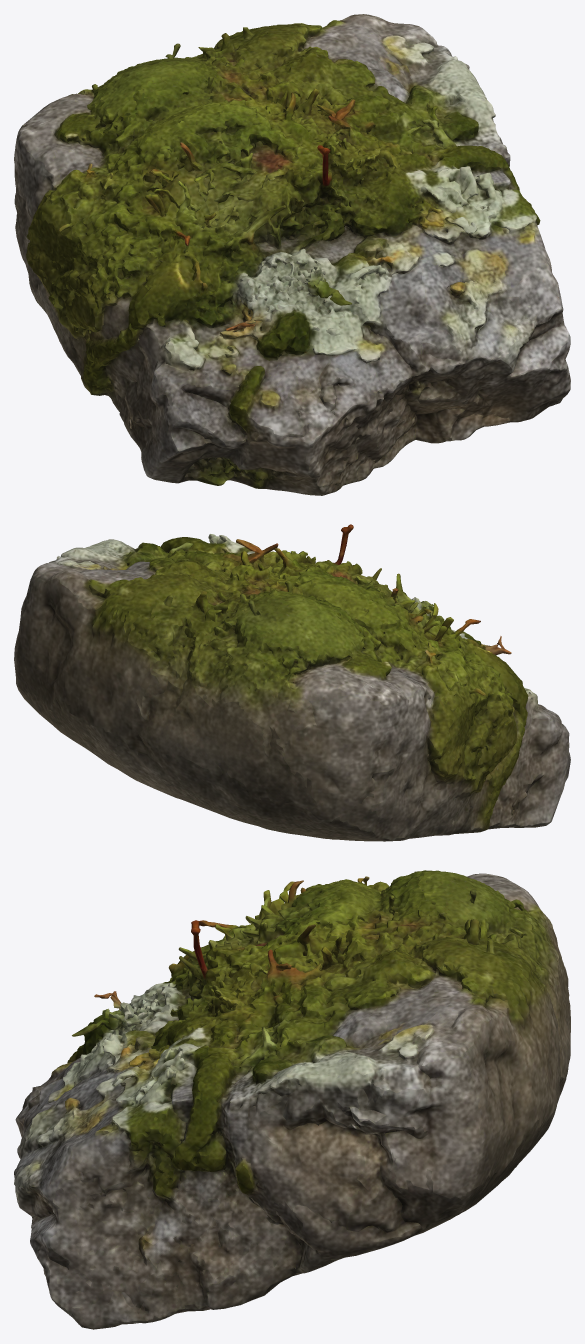
Rendered from mossy-granite-slab-v21-lod.glb.
The picture shows the model from 3 angles, top to bottom: view 1: azimuth 30°, elevation 25°; view 2: azimuth 150°, elevation 25°; view 3: azimuth 270°, elevation 25°; orthographic projection. The views are drawn at different scales.
Parts seen in each view (by area): view 1: geometry_0; view 2: geometry_0; view 3: geometry_0.
Boxes of the visible parts, x1=… form: geometry_0: x1=14, y1=14, x2=570, y2=495; geometry_0: x1=14, y1=524, x2=570, y2=841; geometry_0: x1=14, y1=870, x2=570, y2=1329.
Bounding box in the file's own units: 0.2797 × 0.1941 × 0.2752.
1 material, 1 textured.
